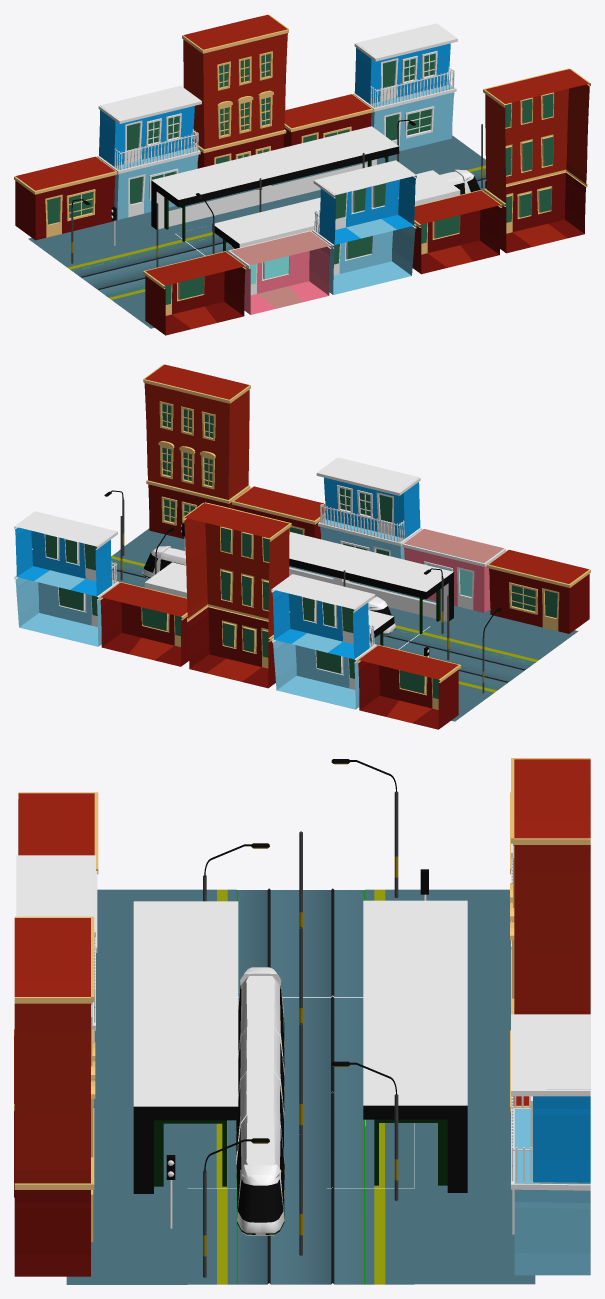
Rendered from Tranvia1.fbx.
3 renders of one model, top to bottom at view 1: azimuth 30°, elevation 25°; view 2: azimuth 150°, elevation 25°; view 3: azimuth 270°, elevation 25°, orthographic. The views are drawn at different scales.
Visible parts, largest first — view 1: edifio023, edifio017, Box018, edifio031, edifio030, edifio021, carretera 017, edifio026, edifio020, edifio024, edifio042, Riel 004 (+5 smaller); view 2: edifio017, edifio023, edifio021, edifio030, edifio031, Box025, edifio020, edifio026, edifio029, carretera 017, Riel 004, edifio024 (+5 smaller); view 3: carretera 017, edifio023, Box025, Box018, edifio030, Riel 003, edifio017, Riel 1, Riel 004, Box024, edifio031, edifio026 (+3 smaller).
Boxes of the visible parts, x1,y1,x2,y2 form: edifio023: [483, 68, 590, 253]; edifio017: [182, 14, 288, 168]; Box018: [151, 126, 399, 241]; edifio031: [312, 160, 416, 294]; edifio030: [353, 23, 457, 151]; edifio021: [97, 86, 201, 219]; carretera 017: [28, 135, 483, 328]; edifio026: [143, 251, 246, 335]; edifio020: [14, 156, 117, 240]; edifio024: [228, 230, 331, 314]; edifio042: [412, 190, 502, 274]; Riel 004: [60, 234, 204, 305]; edifio017: [183, 502, 291, 688]; edifio023: [143, 364, 250, 538]; edifio021: [271, 574, 376, 709]; edifio030: [14, 511, 119, 646]; edifio031: [316, 457, 421, 559]; Box025: [289, 532, 453, 633]; edifio020: [357, 644, 461, 729]; edifio026: [487, 549, 590, 633]; edifio029: [99, 582, 189, 666]; carretera 017: [119, 528, 578, 721]; Riel 004: [399, 626, 546, 698]; edifio024: [402, 528, 505, 612]; carretera 017: [66, 889, 535, 1284]; edifio023: [14, 916, 95, 1276]; Box025: [133, 901, 238, 1193]; Box018: [363, 900, 467, 1192]; edifio030: [511, 1014, 590, 1275]; Riel 003: [187, 996, 413, 1188]; edifio017: [510, 758, 590, 1014]; Riel 1: [187, 1188, 414, 1284]; Riel 004: [187, 888, 414, 996]; Box024: [236, 967, 284, 1235]; edifio031: [16, 855, 95, 1060]; edifio026: [18, 792, 98, 874].
Size of the model in its own units: 1275 by 434 by 784.
